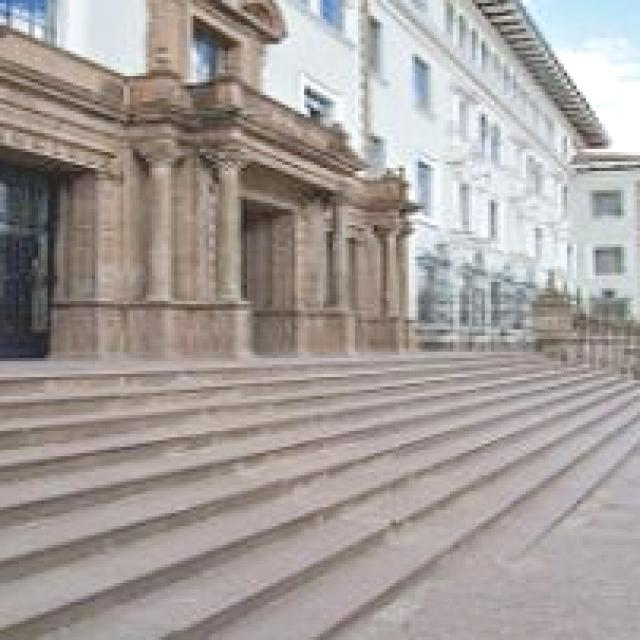upstair: (1, 356, 454, 631)
